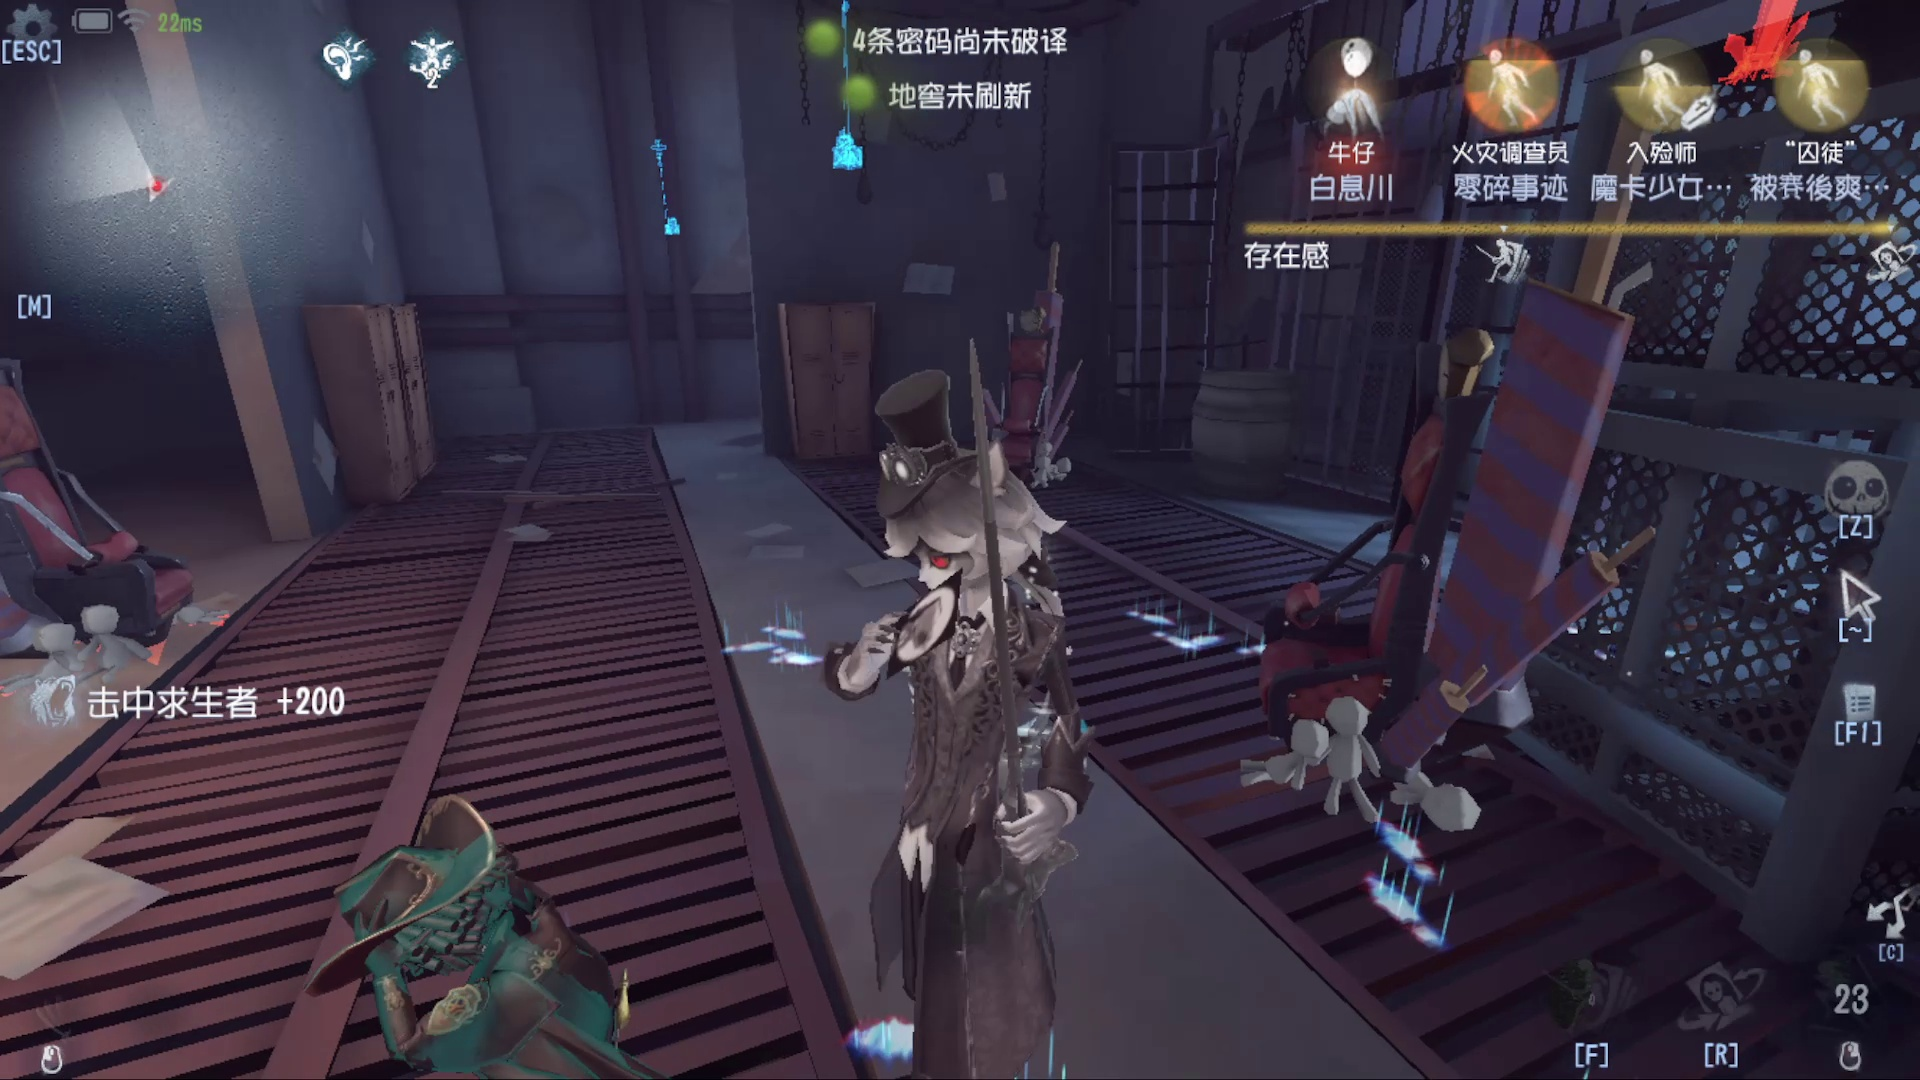狂欢之椅: (1300, 298, 1578, 827), (1, 338, 280, 675), (967, 257, 1091, 491)
